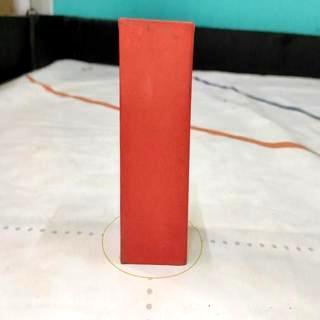redbox: (118, 18, 195, 266)
